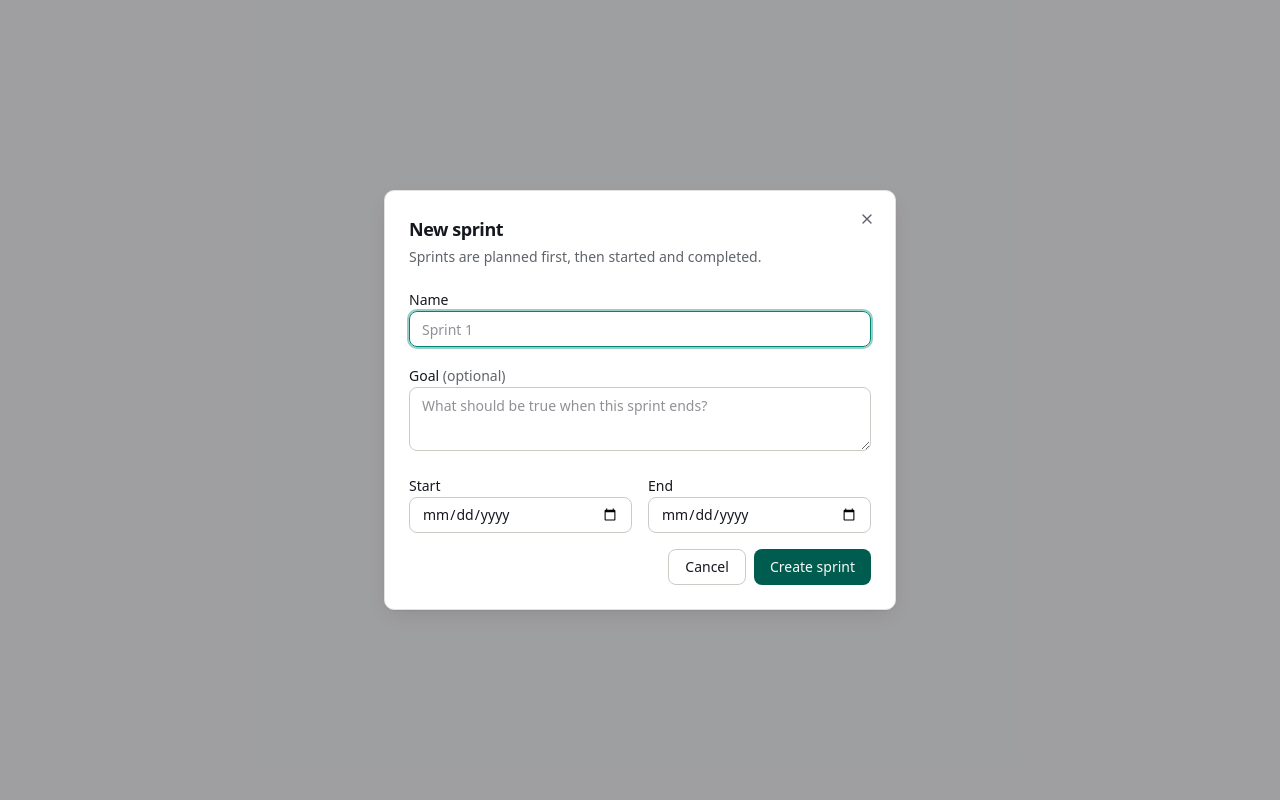
Test: SprintFormDialog › rejects an end date before the start date client-side
Step 1. Type "S" into the field labelled "Name" → (640, 329), box [409, 311, 871, 347]
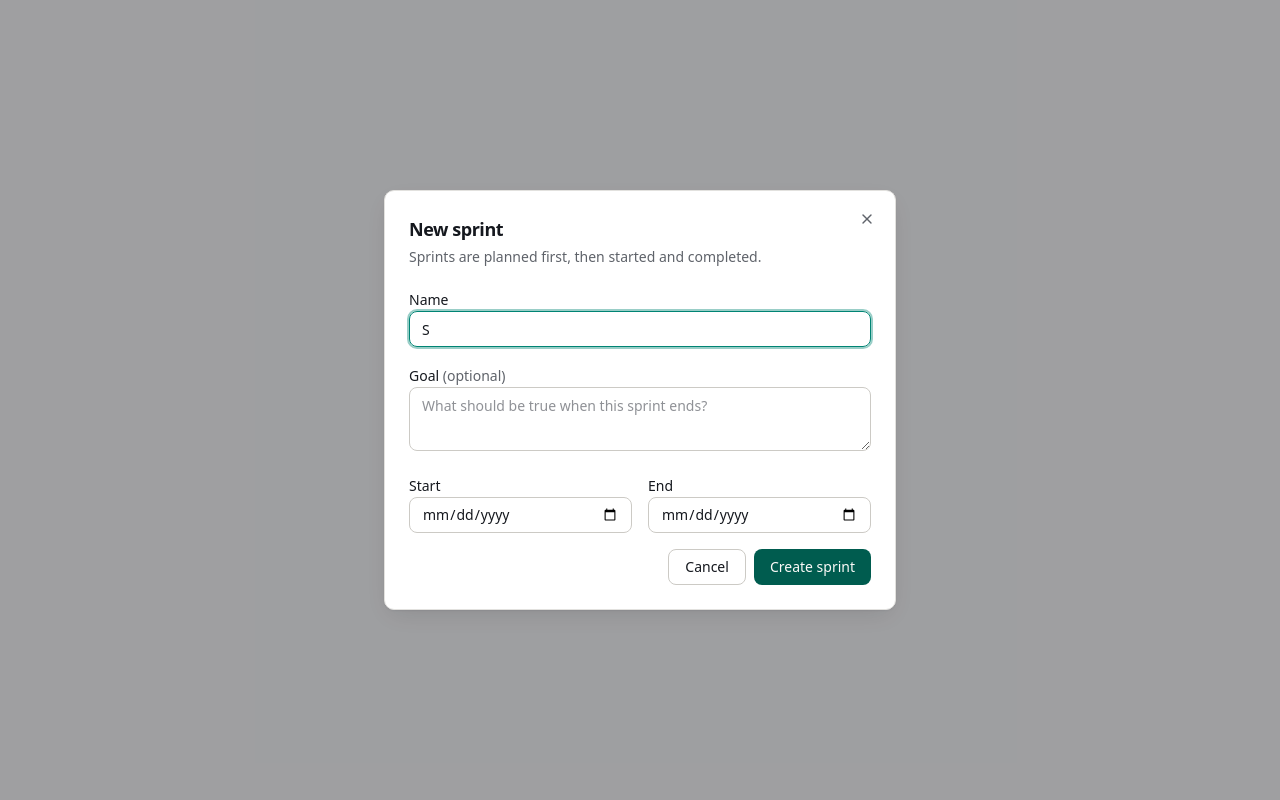
Step 2. Type "2026-02-14" into the date field labelled "Start" → (520, 515), box [409, 497, 632, 533]
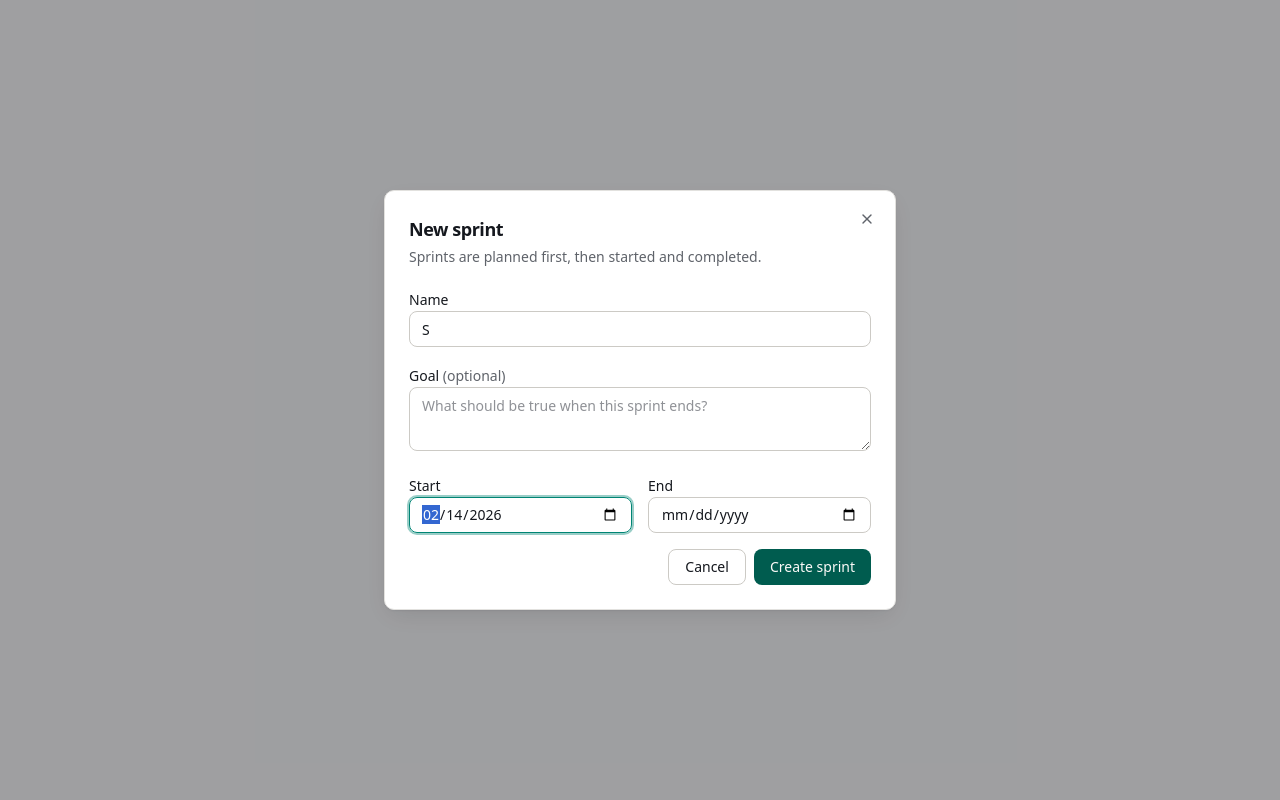
Step 3. Type "2026-02-01" into the date field labelled "End" → (760, 515), box [648, 497, 871, 533]
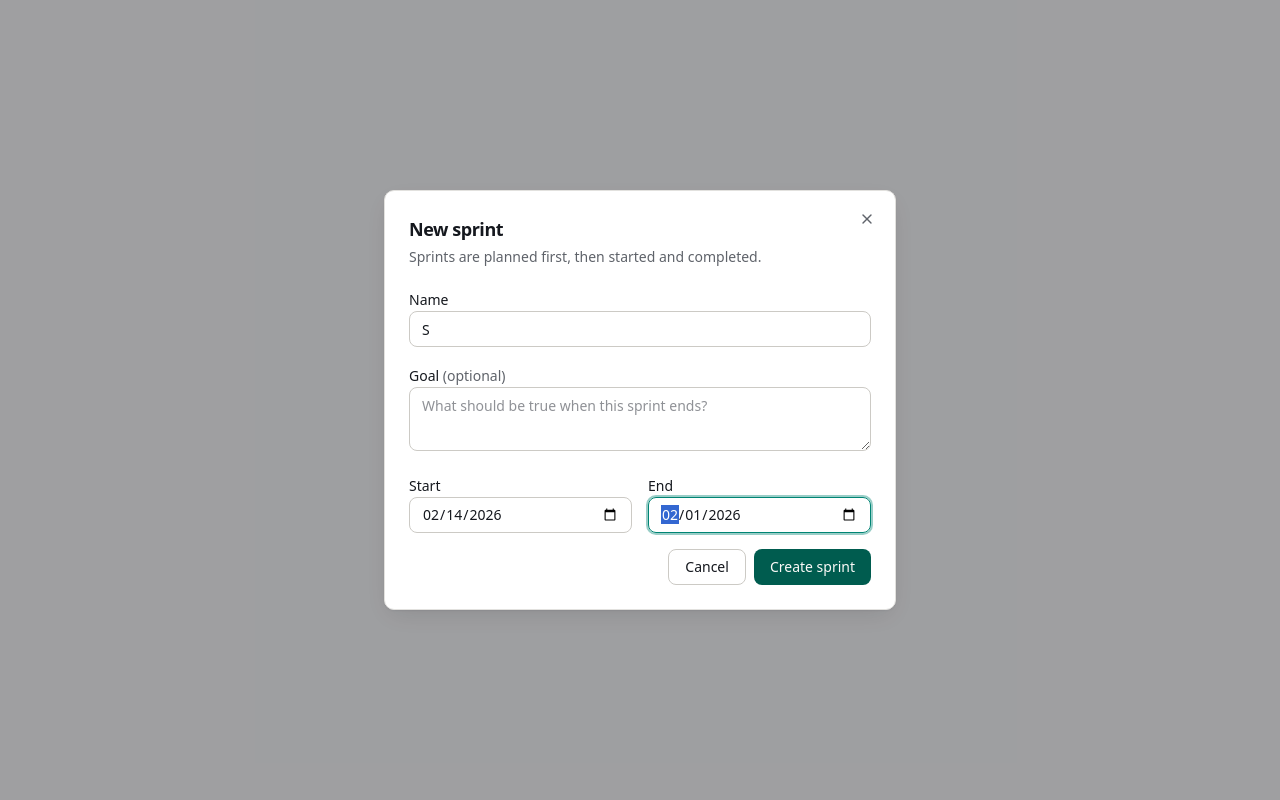
Step 4. Click the button "Create sprint" → (812, 567), box [754, 549, 871, 585]
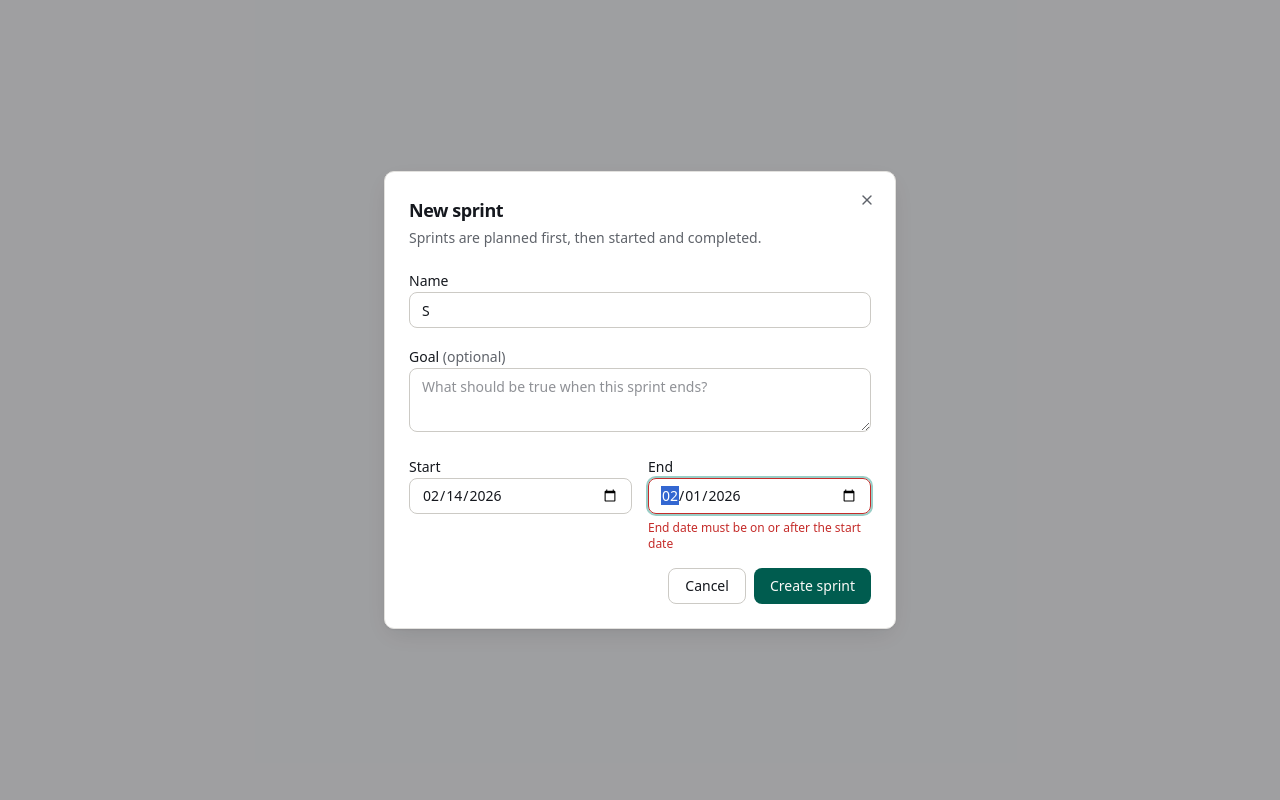
Expected: the text "End date must be on or after the start date" is shown, [648, 520, 871, 552]
